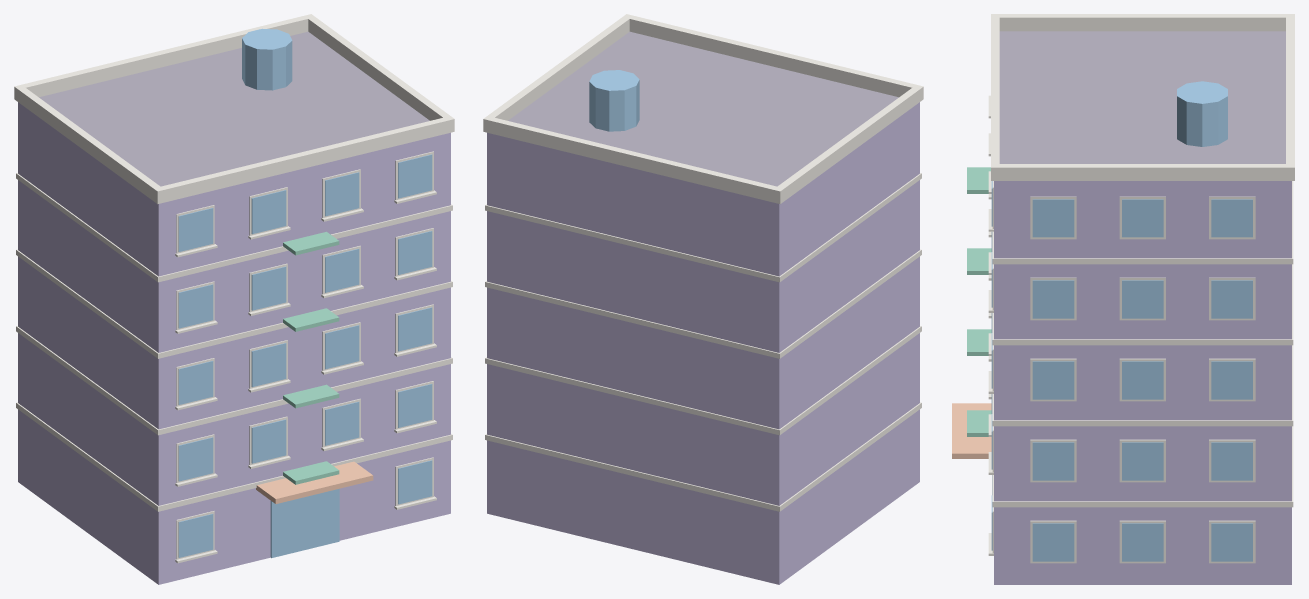
Rendered from apartment.glb.
3 renders of one model, left to right at view 1: azimuth 30°, elevation 25°; view 2: azimuth 150°, elevation 25°; view 3: azimuth 270°, elevation 25°, orthographic. The views are drawn at different scales.
Parts seen in each view (by area): view 1: apartment; view 2: apartment; view 3: apartment.
Part boxes in pixels (left/top/right/bottom): apartment: left=14, top=14, right=454, bottom=584; apartment: left=483, top=14, right=923, bottom=584; apartment: left=952, top=14, right=1294, bottom=584.
Size of the model in its own units: 12.2 by 16.6 by 11.5.
